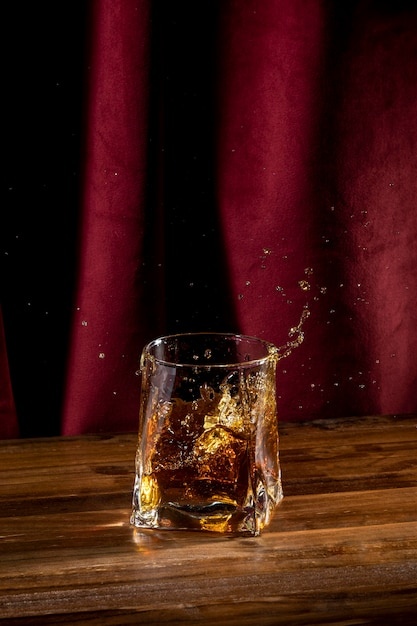alcohol: (132, 334, 284, 538)
